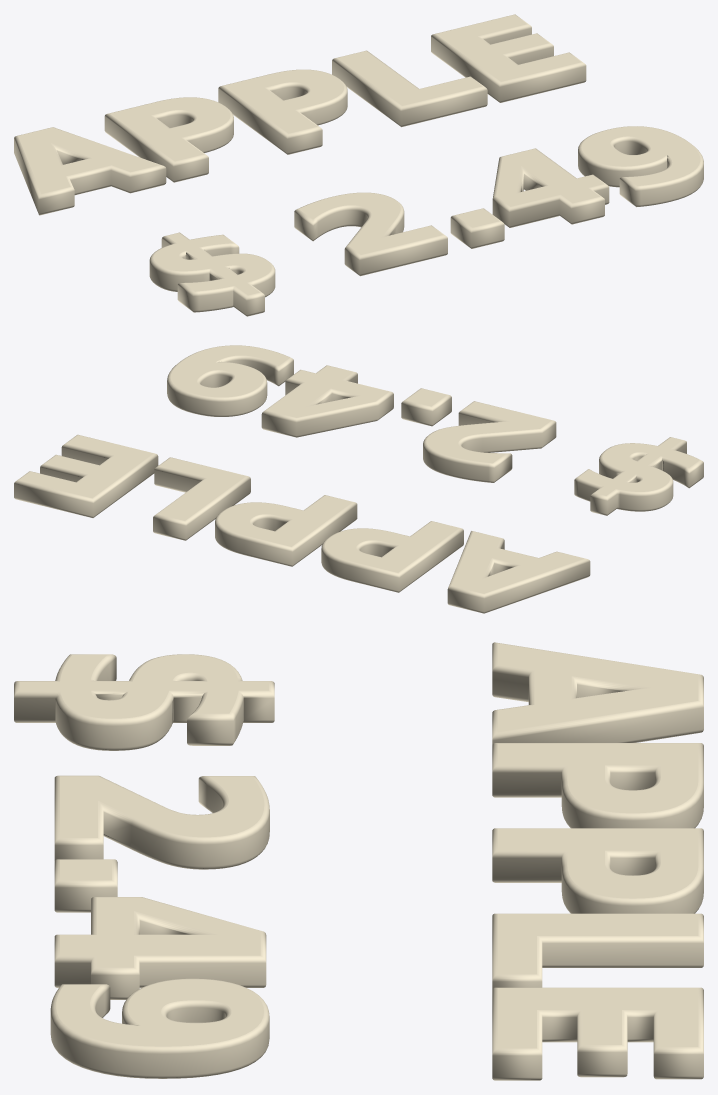
The model's file is SM_EG_Produce_price_7c0f08ae13.fbx.
3 renders of one model, top to bottom at view 1: azimuth 30°, elevation 25°; view 2: azimuth 150°, elevation 25°; view 3: azimuth 270°, elevation 25°, orthographic. The views are drawn at different scales.
Parts seen in each view (by area): view 1: SM_EG_Produce_price_7c0f08ae13; view 2: SM_EG_Produce_price_7c0f08ae13; view 3: SM_EG_Produce_price_7c0f08ae13.
Part boxes in pixels (box(x1,y1,x2,y2)): SM_EG_Produce_price_7c0f08ae13: box(14, 14, 703, 316); SM_EG_Produce_price_7c0f08ae13: box(14, 345, 703, 613); SM_EG_Produce_price_7c0f08ae13: box(14, 642, 703, 1080).
Size of the model in its own units: 12.21 by 8.67 by 0.44.
